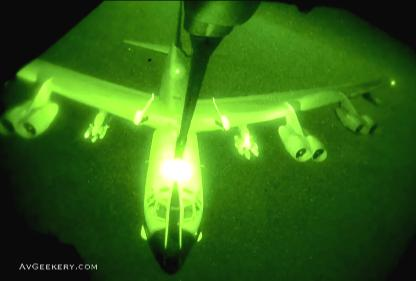B2: (0, 0, 395, 274)
